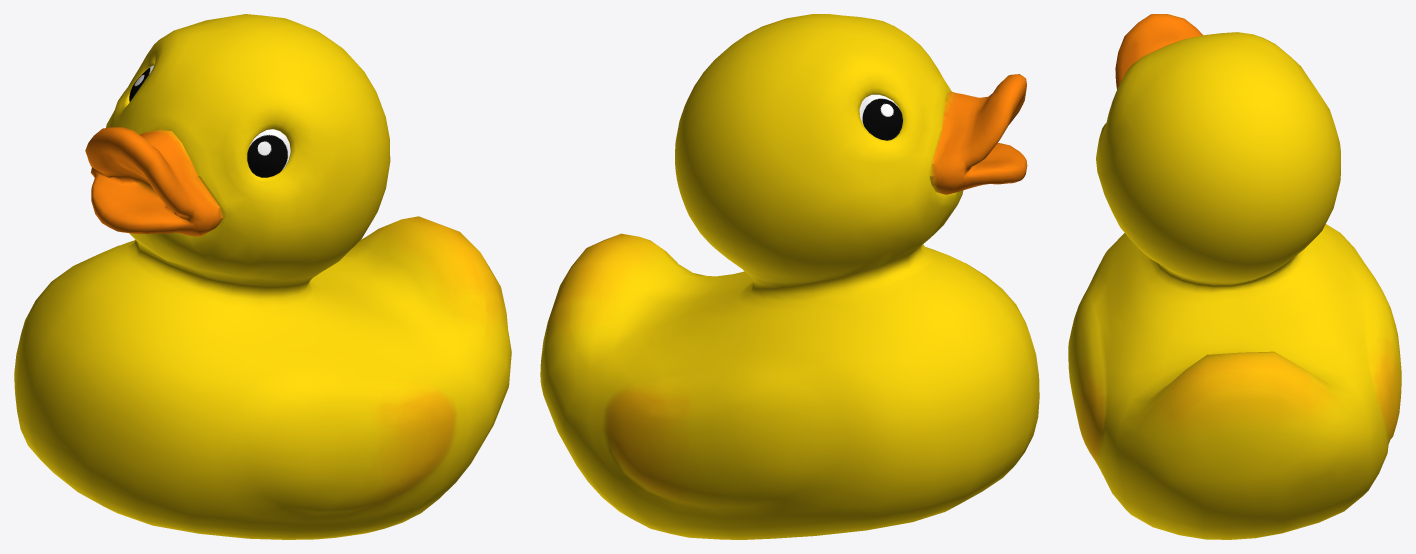
File: Duck.gltf
3 views of the same model, side by side, from view 1: azimuth 30°, elevation 25°; view 2: azimuth 150°, elevation 25°; view 3: azimuth 270°, elevation 25° (orthographic). The views are drawn at different scales.
Parts seen in each view (by area): view 1: LOD3spShape; view 2: LOD3spShape; view 3: LOD3spShape.
Boxes of the visible parts, x1,y1,x2,y2 form: LOD3spShape: [14, 14, 511, 539]; LOD3spShape: [540, 14, 1039, 539]; LOD3spShape: [1068, 14, 1401, 539].
Bounding box in the file's own units: 1.56 × 1.65 × 1.16.
